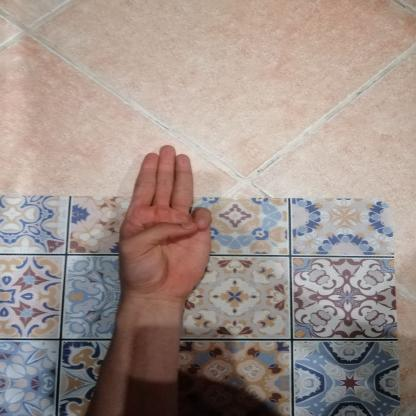THA: (103, 137, 220, 305)
